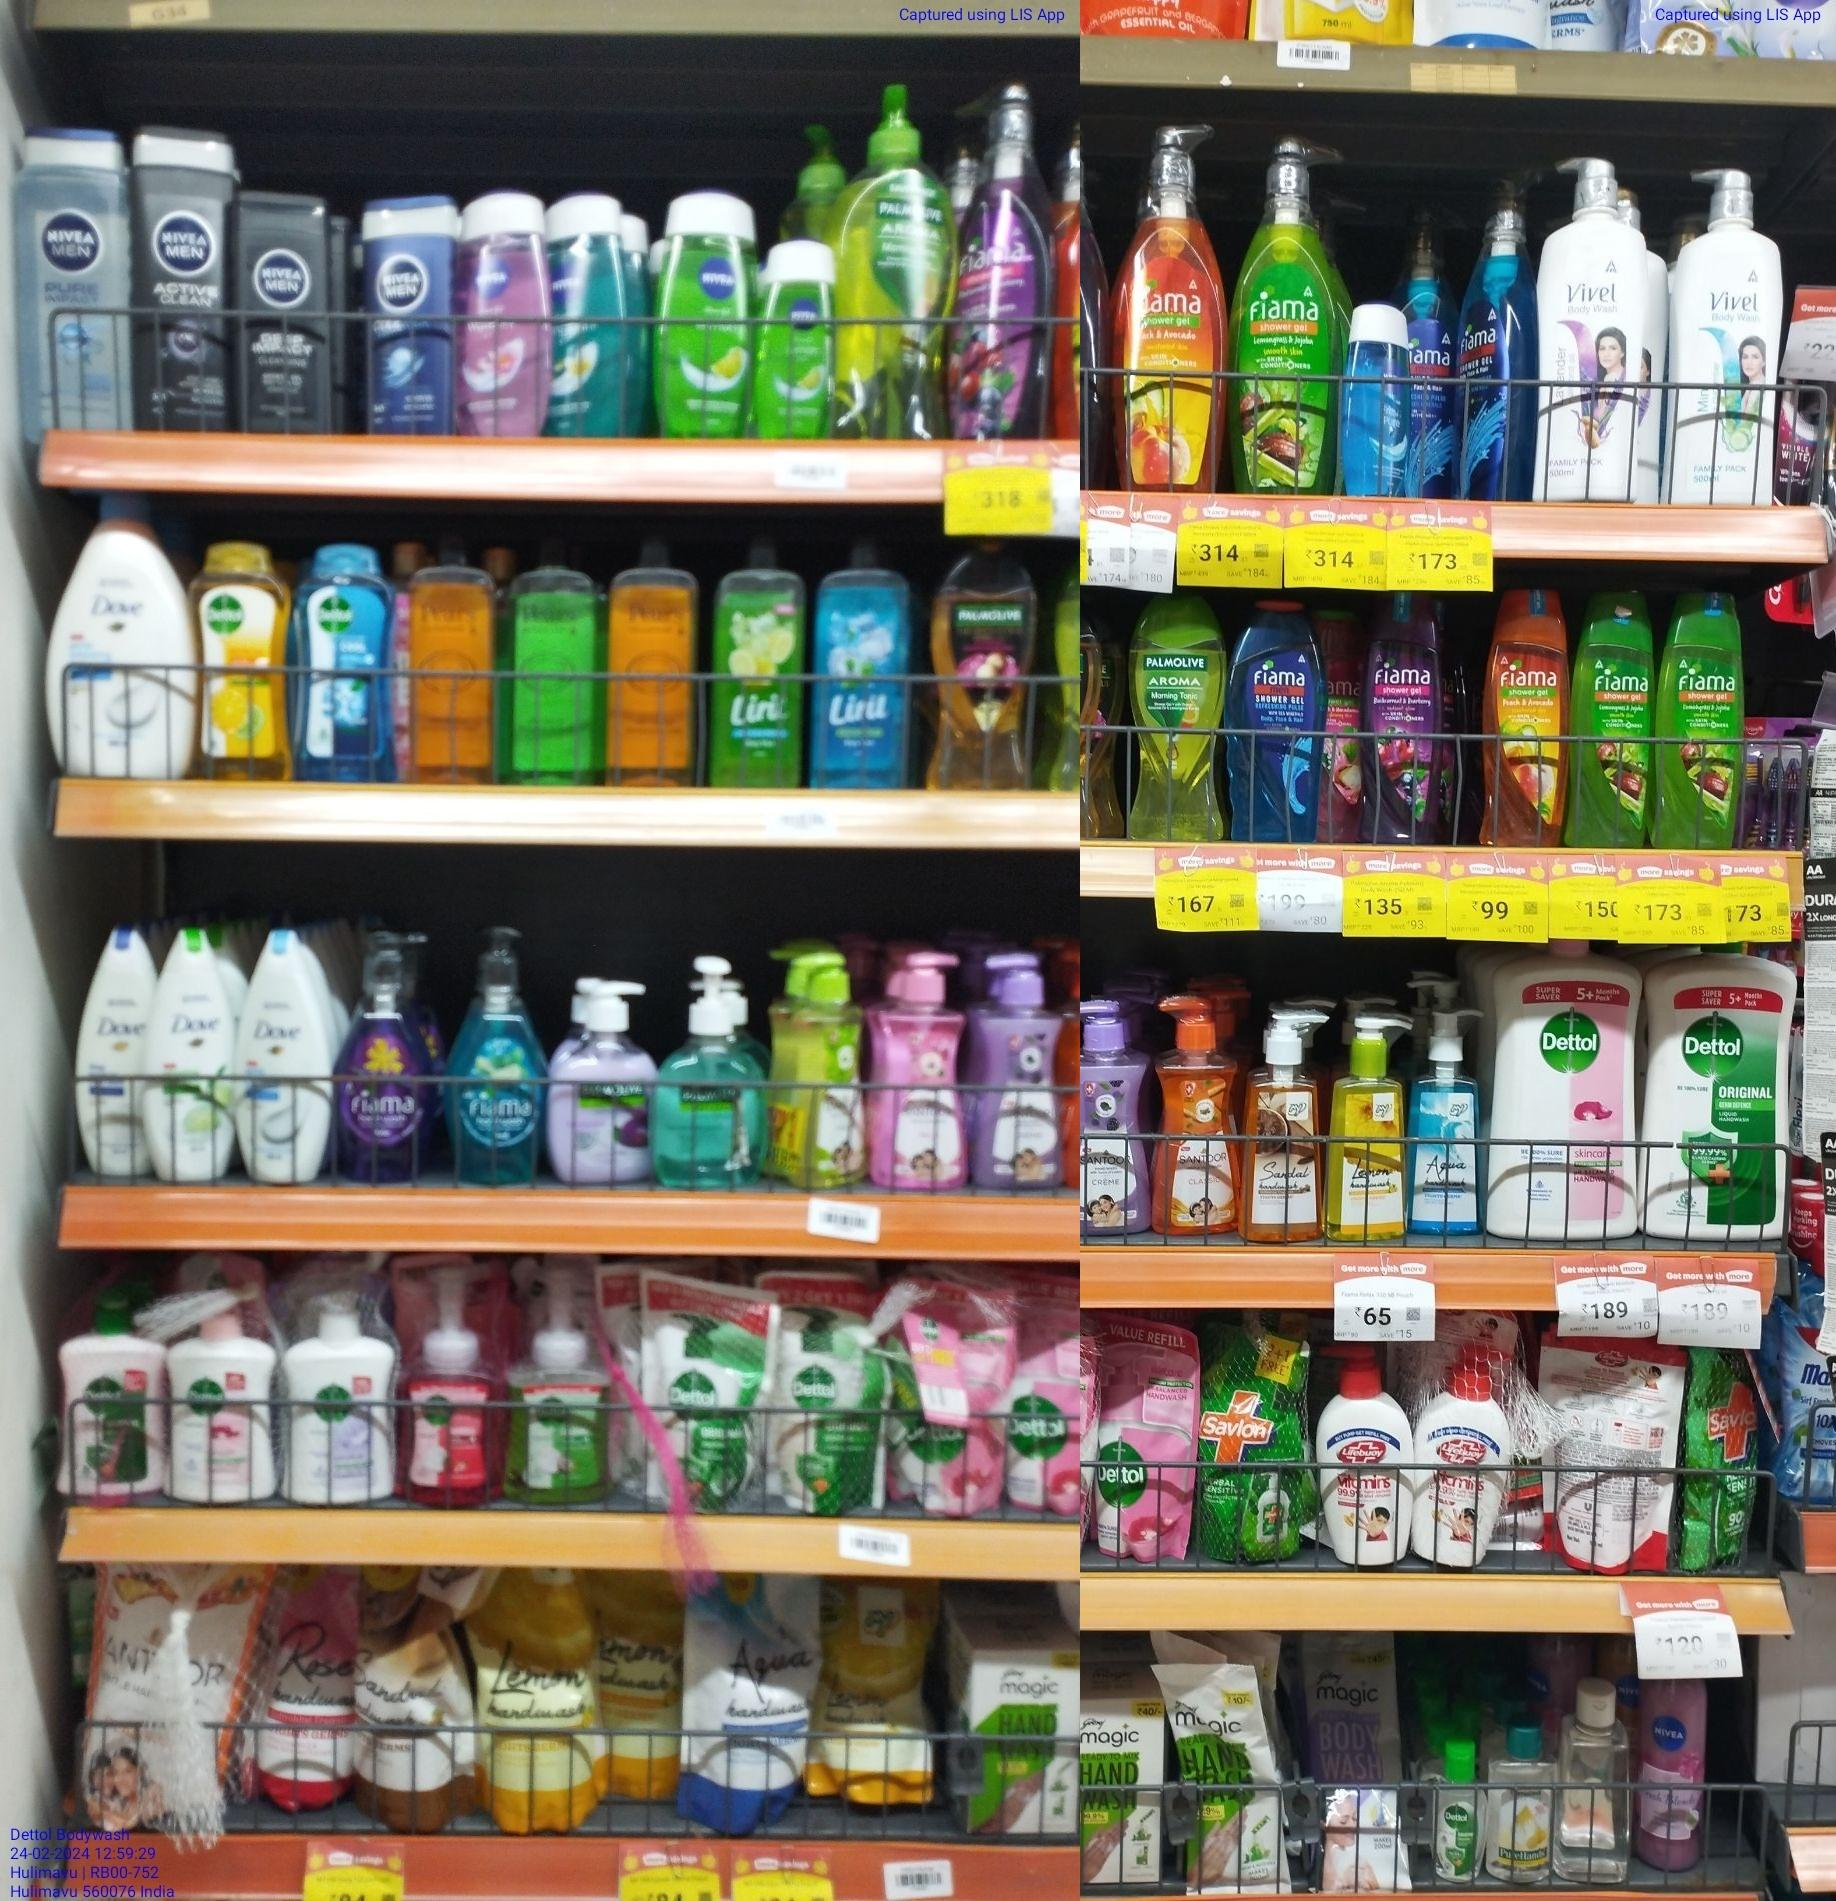Dettol_Bodywash_Cool: (299, 536, 383, 777)
Dettol_Bodywash_Refresh: (193, 545, 295, 777)
Dove_Deep_Moisture_Body_Wash_250ML: (73, 932, 149, 1181)
Dove_Gentle_Exfoliating_Body_Wash_250ML: (248, 920, 329, 1192)
Dove_Refreshing_Body_Wash_250ML: (161, 922, 239, 1188)
Fiama_Shower_Gel_Lemongrass_and_Jojoba_250ML: (1661, 577, 1739, 854), (1587, 555, 1646, 852)
Fiama_Shower_Gel_Patchouli_and_Macadamia_250ML: (928, 536, 1044, 791)
Fiama_Shower_Gel_Peach_and_Avocado_250ML: (1481, 589, 1570, 849)
Liril_Cooling_Mint_Body_Wash_250ML: (816, 530, 910, 784)
Liril_Lime_and_Tea_Tree_Oil_Body_Wash_250ML: (708, 530, 809, 782)
Nivea_Shower_Gel_Frangipani_and_Oil_250ML: (563, 197, 635, 431)
Nivea_Shower_Gel_Lemon_and_Oil_250ML: (657, 180, 758, 435)
Nivea_Shower_Gel_Waterlily_and_Oil_250ML: (460, 178, 550, 424)
Palmolive_Aroma_Morning_Tonic_Shower_Gel_250ML: (1132, 603, 1225, 840)
Pears_Pure_Glycerin_and_Lemon_Flower_Extracts_Body_Wash_250ML: (502, 533, 601, 779)
